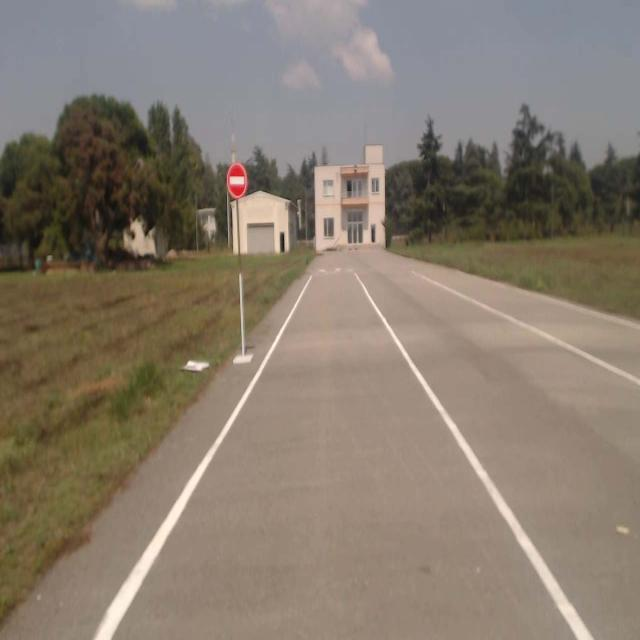girisyok: (226, 165, 248, 198)
